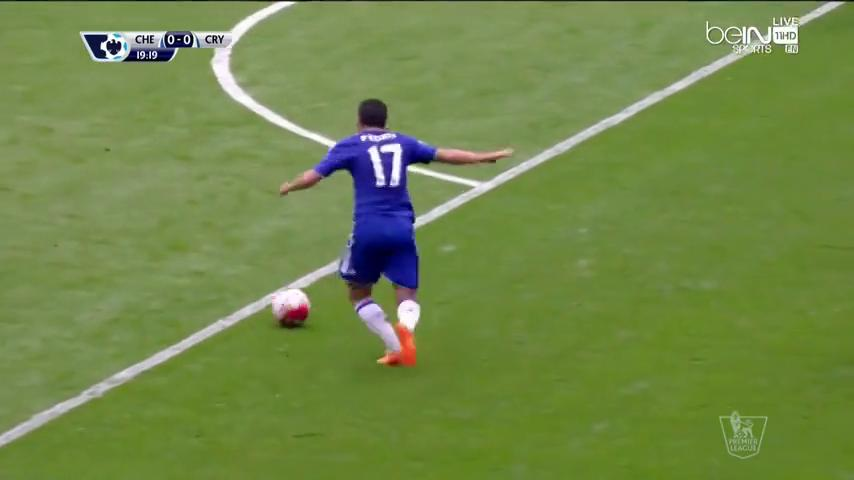football: (272, 285, 311, 328)
